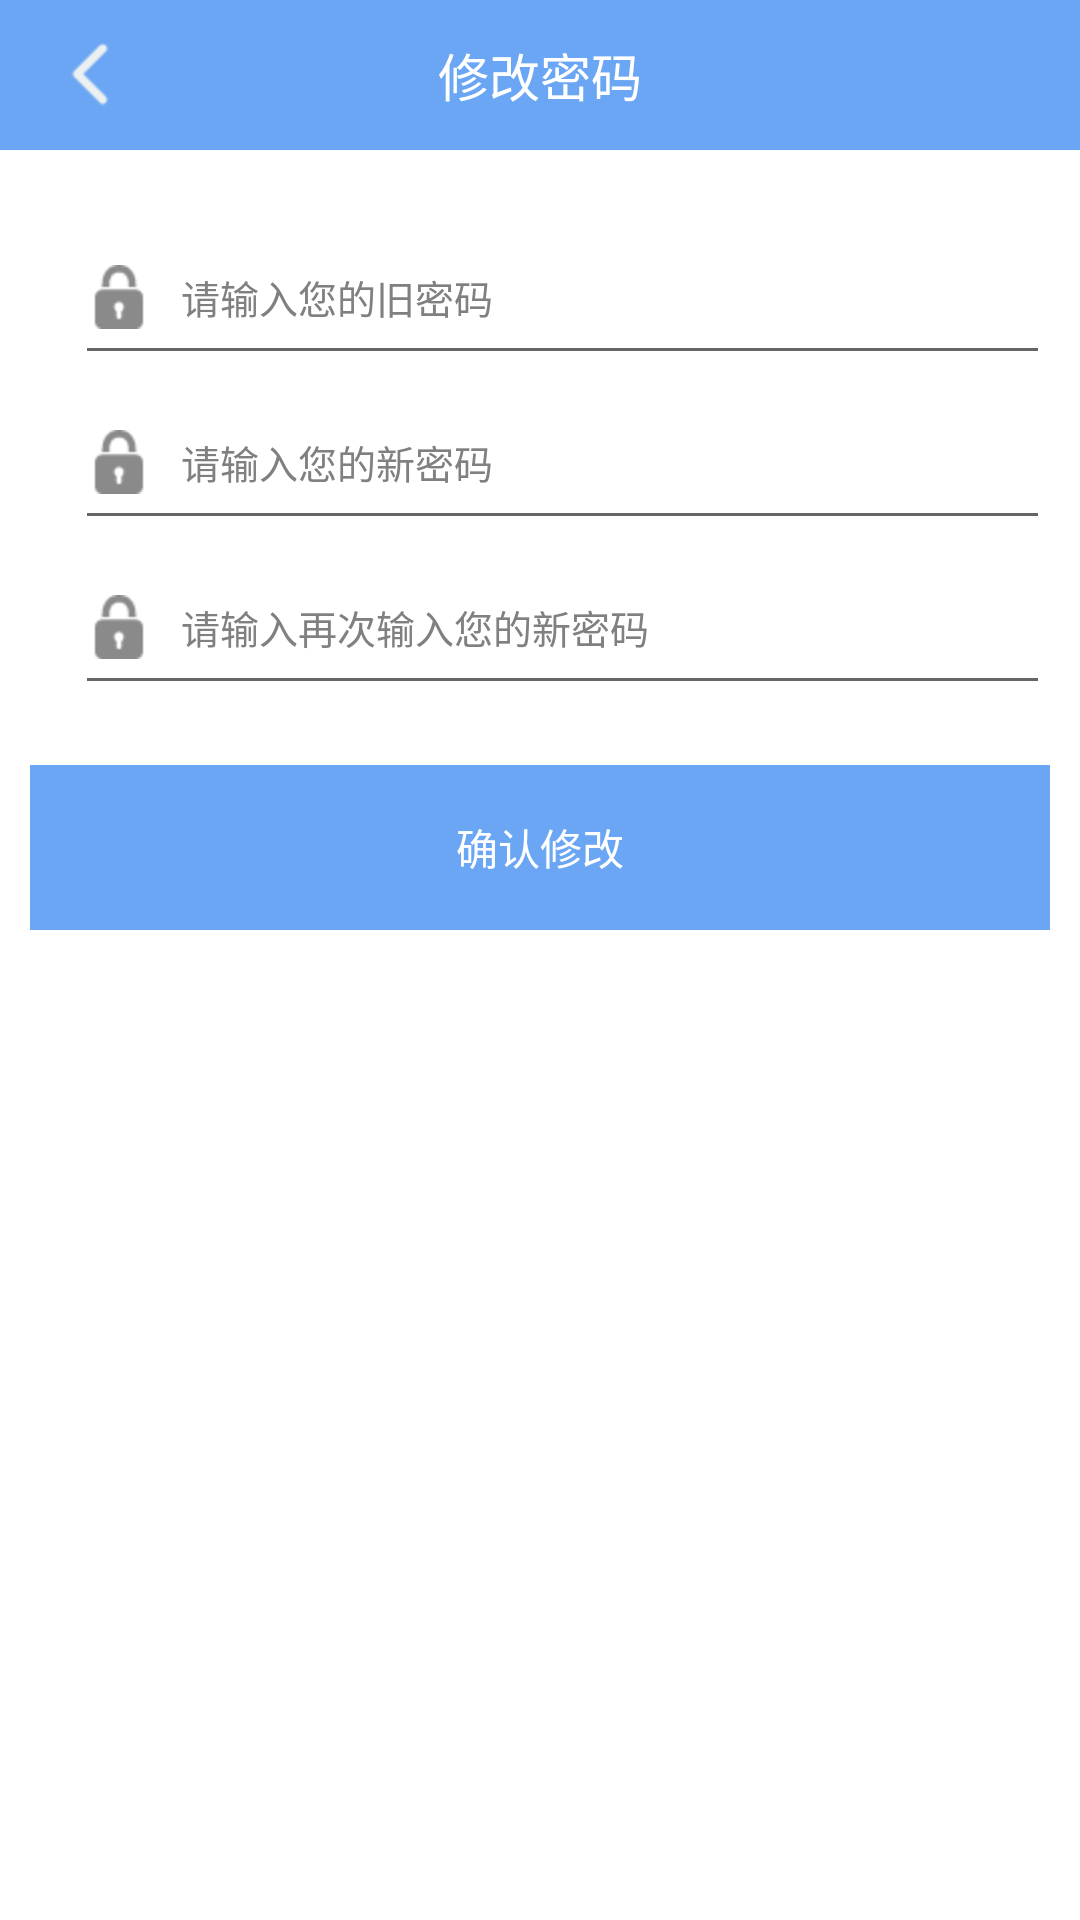

Screen size 1080 × 1920. Icon name, then its box in pixels as (x1, y1, x2, y2):
back: (72, 43, 108, 105)
